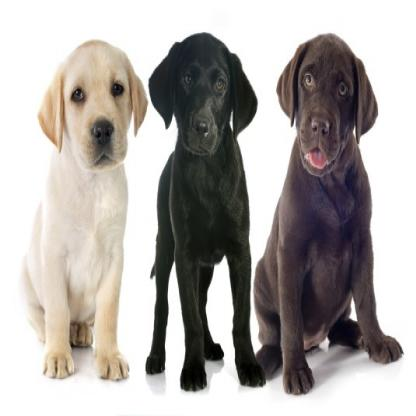Labarador Retriever: (253, 22, 403, 393), (18, 34, 141, 381), (145, 32, 259, 388)
